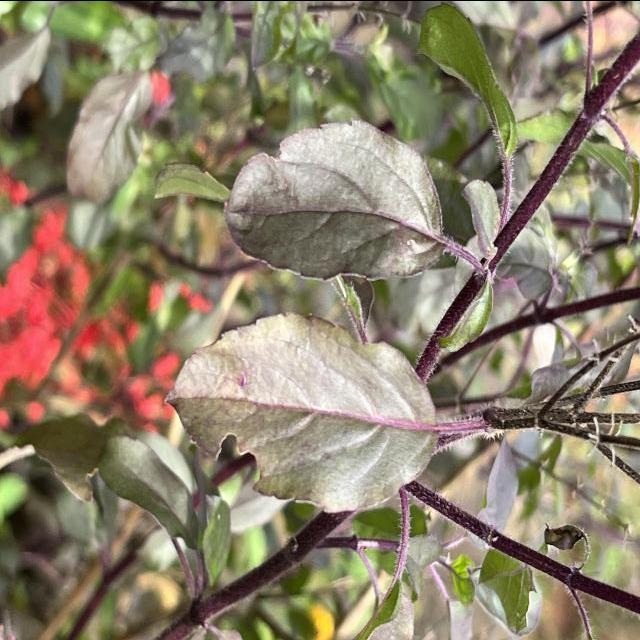Ocimum tenuiflorum: (163, 310, 439, 514), (224, 116, 446, 282)
